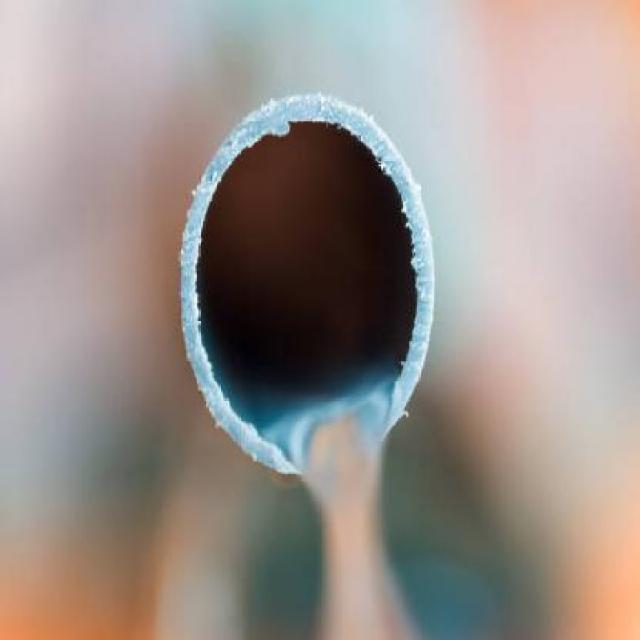pipe: (182, 94, 436, 477)
